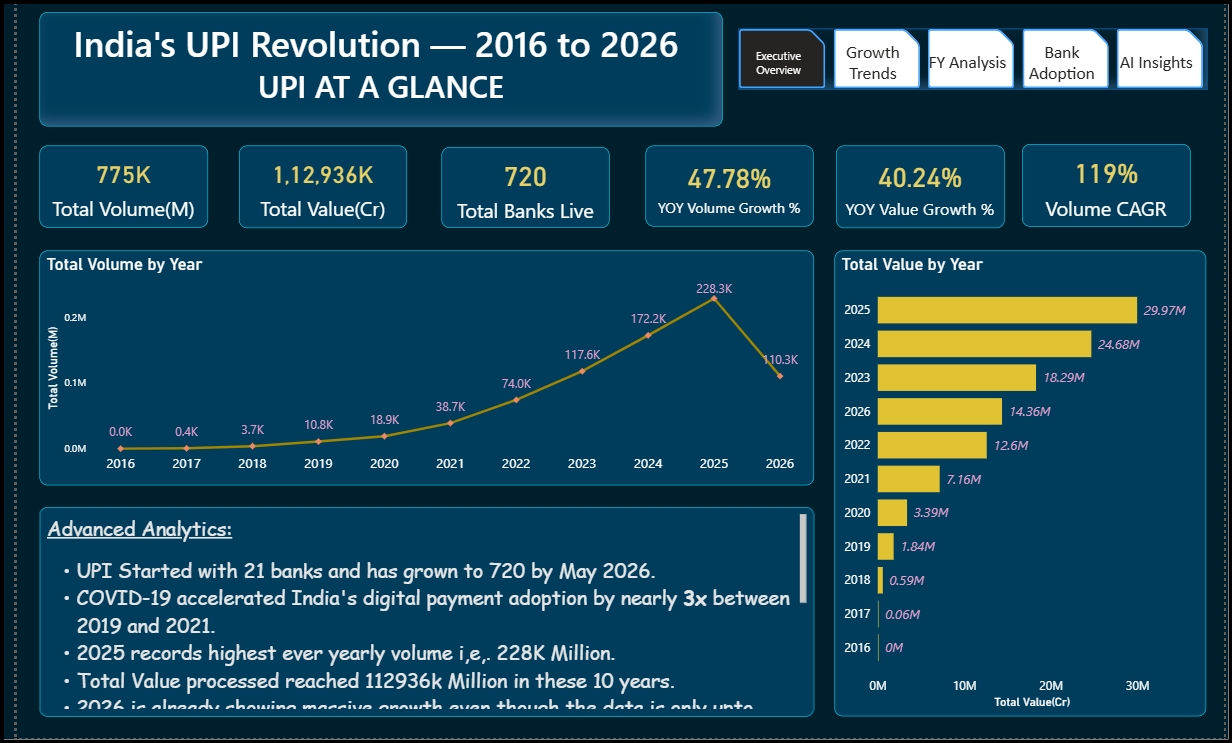

Layout of this report page (visuals, bound fields, positions):
{"tool":"powerbi","page":{"name":"Executive Overview","canvas":[1470,900],"ordinal":0},"visuals":[{"type":"textbox","box":[27.9,13.9,831.8,139.4],"z":0},{"type":"card","fields":{"Values":["-Measures.Total Volume"]},"box":[27.4,177.2,205,100],"z":1000},{"type":"card","fields":{"Values":["-Measures.Total Banks Live"]},"box":[517,179,204.6,98.6],"z":2000},{"type":"card","fields":{"Values":["-Measures.Total Value"]},"box":[270.4,177.2,204.6,100.5],"z":3000},{"type":"card","fields":{"Values":["-Measures.YOY Growth %"]},"box":[765.4,177.2,204.6,98.6],"z":4000},{"type":"card","fields":{"Values":["-Measures.YOY Value Growth %"]},"box":[997.5,177.2,205,100.5],"z":5000},{"type":"clusteredBarChart","title":"Total Value by Year","fields":{"Category":["upi_transactions.Year"],"Y":["-Measures.Total Value"]},"box":[996.4,305.1,452.9,567.4],"z":6000},{"type":"lineChart","title":"Total Volume by Year","fields":{"Category":["upi_transactions.Month.Variation.Date Hierarchy.Year"],"Y":["-Measures.Total Volume"]},"box":[27.9,304.4,943.4,285.8],"z":7000},{"type":"textbox","box":[27.9,618.1,943.4,255.6],"z":8000},{"type":"pageNavigator","box":[878.3,34.9,571.6,74.4],"z":9000},{"type":"card","fields":{"Values":["-Measures.Volume CAGR"]},"box":[1224,175.4,205,100.5],"z":10000}]}

Visuals, with their boxes in screenshot pixels (x1, y1, x2, y2), scaled from the page's 1470x900 canvas onto the 1232x743 screenshot:
textbox: bbox=[23, 11, 721, 127]
card - -Measures.Total Volume: bbox=[23, 146, 195, 229]
card - -Measures.Total Banks Live: bbox=[433, 148, 605, 229]
card - -Measures.Total Value: bbox=[227, 146, 398, 229]
card - -Measures.YOY Growth %: bbox=[641, 146, 813, 228]
card - -Measures.YOY Value Growth %: bbox=[836, 146, 1008, 229]
"Total Value by Year" clusteredBarChart: bbox=[835, 252, 1215, 720]
"Total Volume by Year" lineChart: bbox=[23, 251, 814, 487]
textbox: bbox=[23, 510, 814, 721]
pageNavigator: bbox=[736, 29, 1215, 90]
card - -Measures.Volume CAGR: bbox=[1026, 145, 1198, 228]
